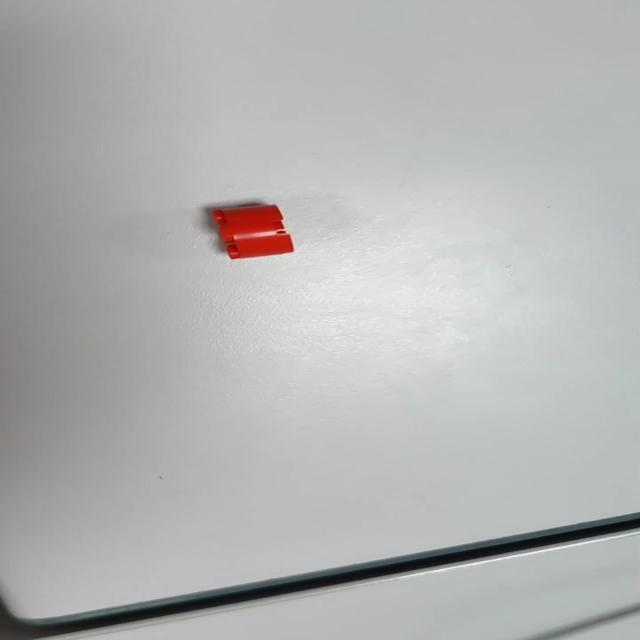S2x2x1: (209, 202, 293, 260)
